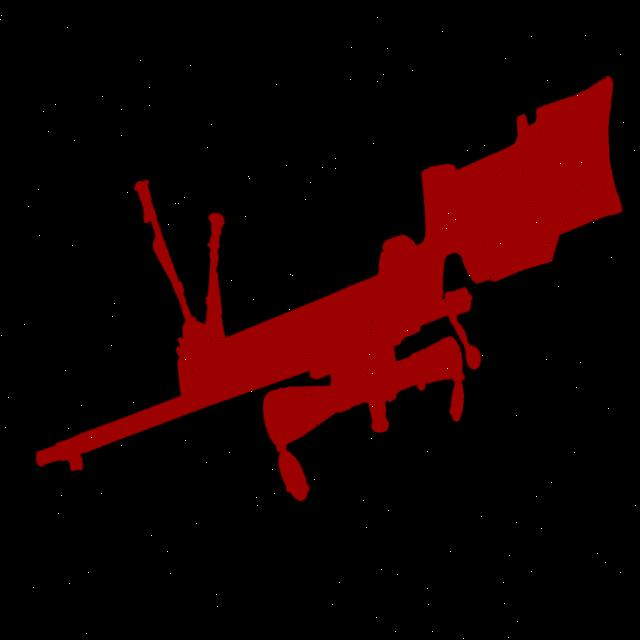firearm: (0, 69, 640, 542)
